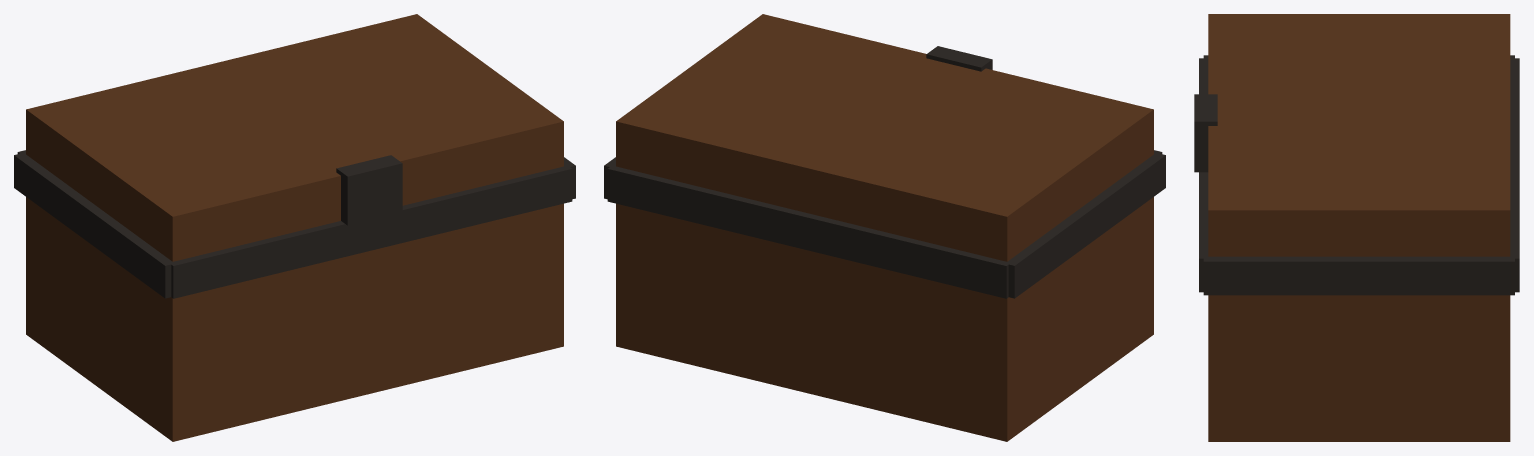
File: chest_common_body.obj
The picture shows the model from 3 angles, left to right: view 1: azimuth 30°, elevation 25°; view 2: azimuth 150°, elevation 25°; view 3: azimuth 270°, elevation 25°; orthographic projection. The views are drawn at different scales.
Visible parts, largest first — view 1: chest_base, strap_front, strap_left, clasp; view 2: chest_base, strap_back, strap_left, clasp; view 3: chest_base, strap_right, strap_back, clasp, strap_front.
Boxes of the visible parts, box(x1,y1,x2,y2) form: chest_base: box(26, 14, 563, 441); strap_front: box(171, 166, 572, 298); strap_left: box(14, 154, 184, 298); clasp: box(336, 155, 402, 225); chest_base: box(616, 14, 1153, 441); strap_back: box(607, 163, 1017, 298); strap_left: box(1008, 154, 1165, 298); clasp: box(926, 46, 992, 71); chest_base: box(1208, 14, 1510, 441); strap_right: box(1203, 251, 1514, 295); strap_back: box(1510, 58, 1519, 292); clasp: box(1194, 94, 1217, 172); strap_front: box(1199, 58, 1208, 292).
Bounding box in the file's own units: 0.9265 × 0.4941 × 0.6177.
